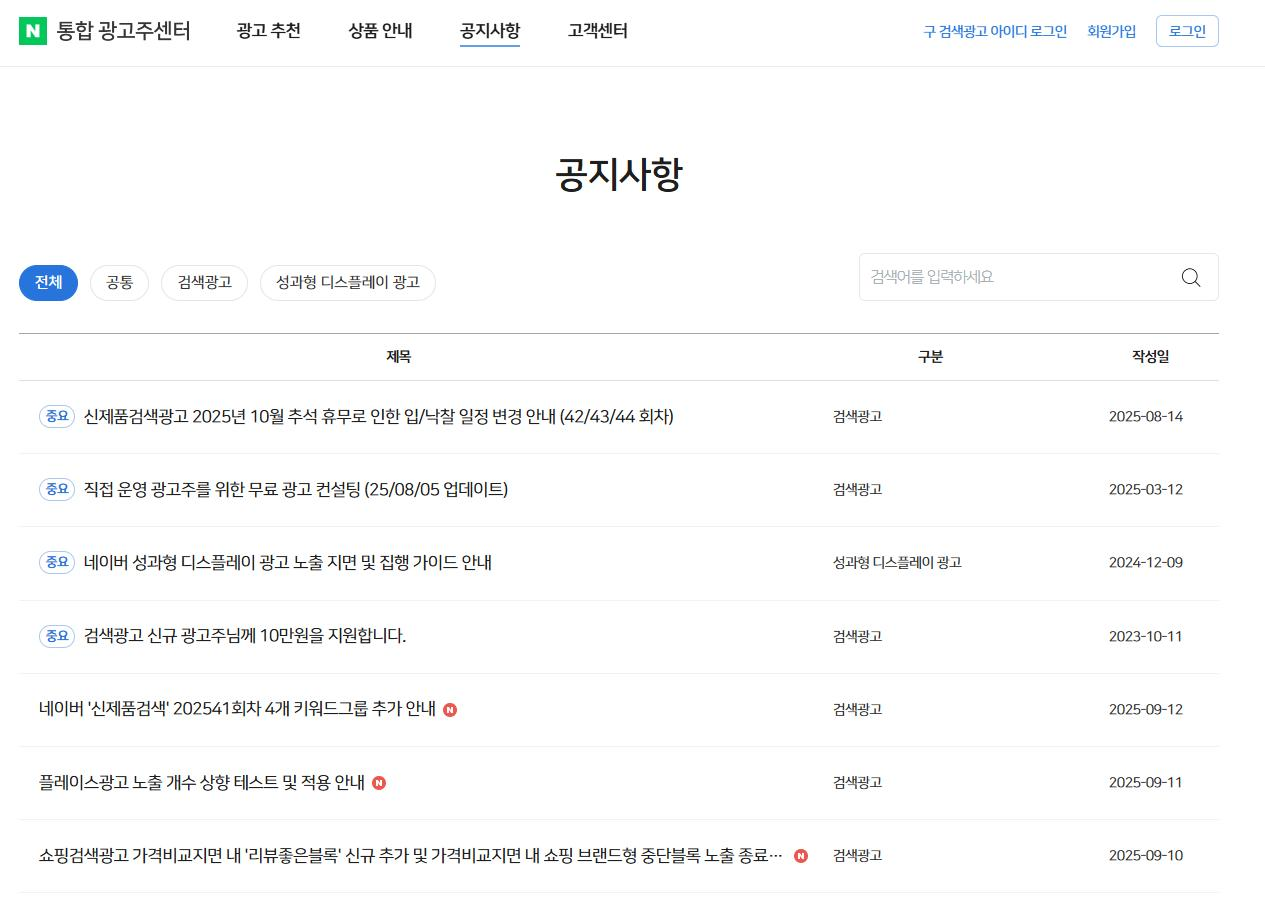button: (260, 265, 420, 299), (220, 13, 318, 54), (151, 255, 245, 296), (928, 18, 1062, 45), (434, 18, 533, 52), (335, 15, 421, 51), (558, 21, 651, 54), (19, 265, 83, 295), (1158, 18, 1222, 46), (1079, 21, 1136, 48), (95, 266, 141, 294)
input_field: (854, 251, 1220, 300)
